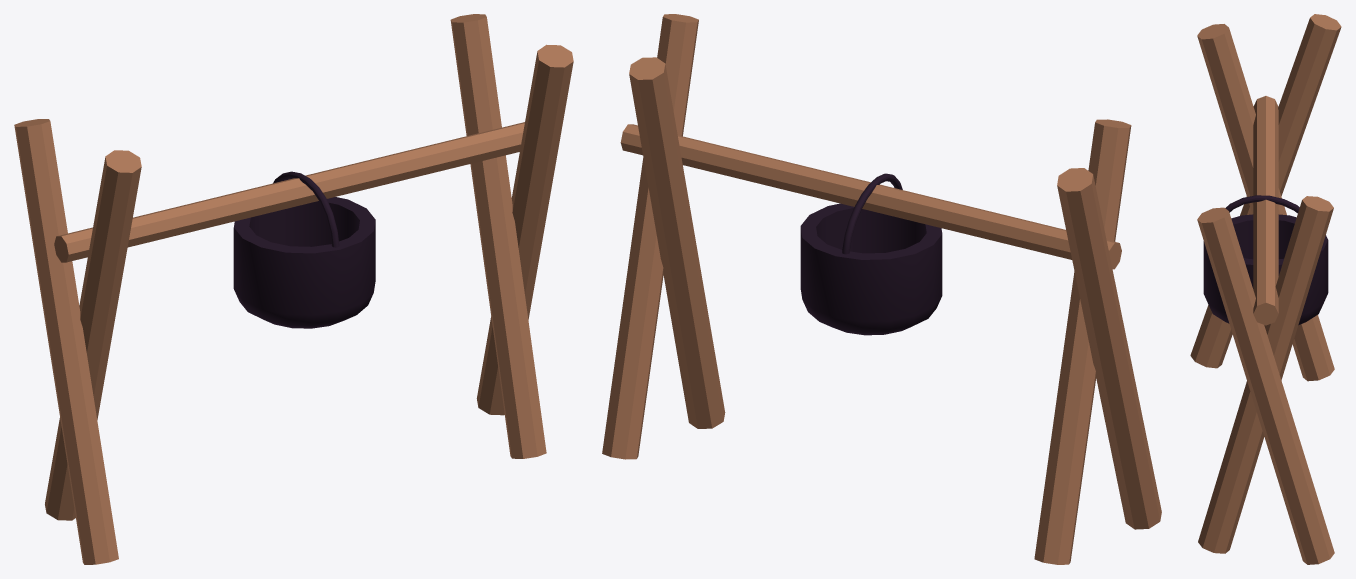
The model's file is Pot.fbx.
3 views of the same model, side by side, from view 1: azimuth 30°, elevation 25°; view 2: azimuth 150°, elevation 25°; view 3: azimuth 270°, elevation 25° (orthographic). The views are drawn at different scales.
Parts seen in each view (by area): view 1: Cylinder.013; view 2: Cylinder.013; view 3: Cylinder.013.
Boxes of the visible parts, <box> form: Cylinder.013: <box>14,14,573,564</box>; Cylinder.013: <box>602,14,1161,564</box>; Cylinder.013: <box>1190,14,1341,564</box>.
Size of the model in its own units: 327 by 252 by 98.63.
